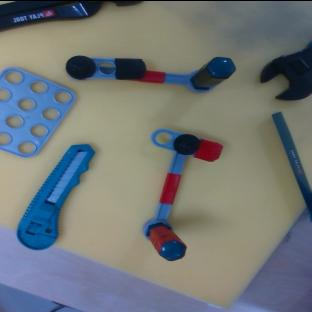non_pass: (66, 54, 236, 92)
pass: (118, 122, 224, 265)
